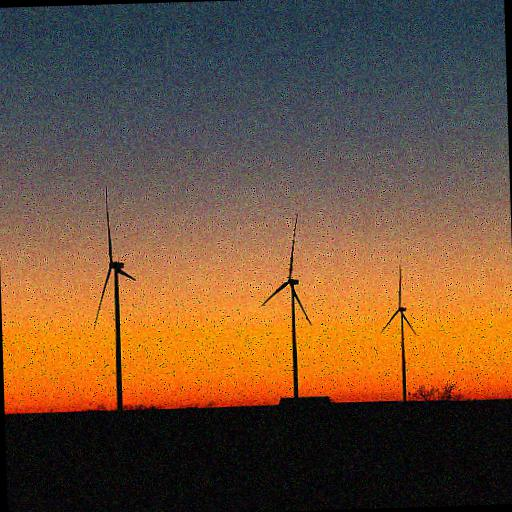wind turbine: (93, 186, 137, 412), (261, 214, 314, 399), (380, 266, 418, 400)
